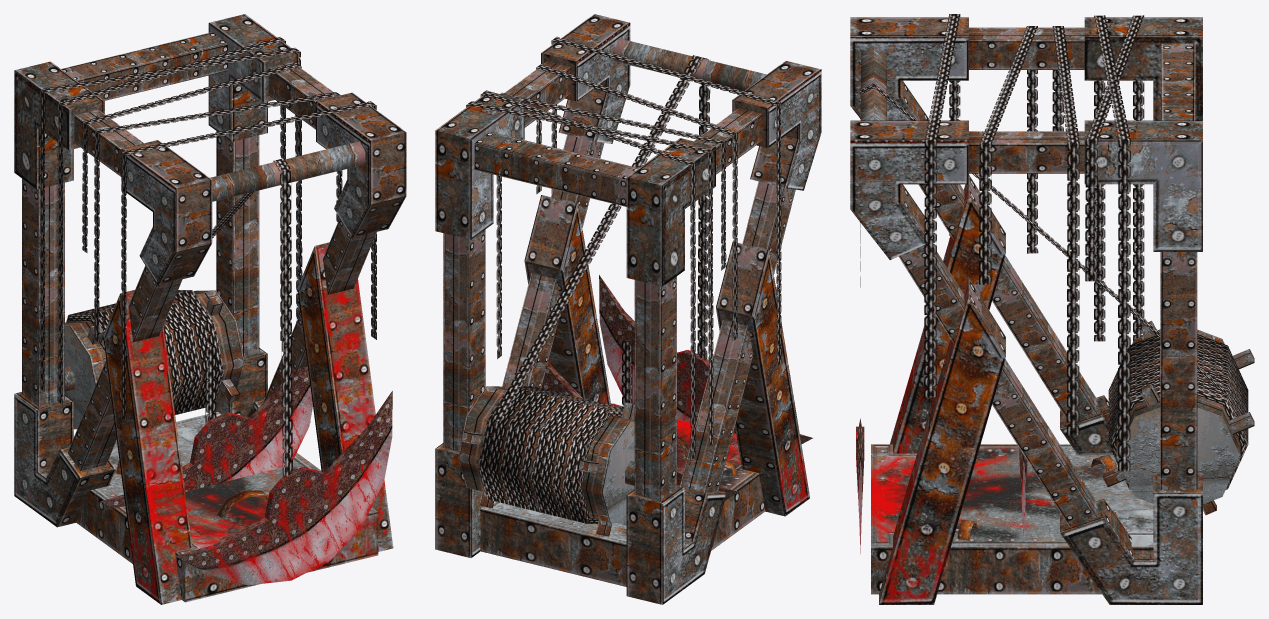
Rendered from Guillotine.glb.
3 renders of one model, left to right at view 1: azimuth 30°, elevation 25°; view 2: azimuth 150°, elevation 25°; view 3: azimuth 270°, elevation 25°, orthographic. The views are drawn at different scales.
Parts seen in each view (by area): view 1: Mount, Axe, LooseAxe, object_33, object_37, Chain, object_34, object_35, object_36, ChainSegment; view 2: Mount, Axe, object_37, object_34, object_33, object_35, object_36, Chain, LooseAxe, ChainSegment; view 3: Mount, object_33, object_35, object_34, object_37, object_36, Axe.
Boxes of the visible parts, bbox=[...] form: Mount: bbox=[14, 14, 406, 604]; Axe: bbox=[175, 391, 392, 585]; LooseAxe: bbox=[100, 368, 312, 509]; object_33: bbox=[57, 37, 285, 404]; object_37: bbox=[121, 101, 376, 419]; Chain: bbox=[280, 169, 292, 476]; object_34: bbox=[39, 48, 300, 391]; object_35: bbox=[82, 62, 302, 322]; object_36: bbox=[94, 92, 342, 342]; ChainSegment: bbox=[205, 345, 216, 424]; Mount: bbox=[435, 14, 821, 604]; Axe: bbox=[599, 275, 812, 444]; object_37: bbox=[551, 36, 781, 366]; object_34: bbox=[480, 90, 695, 459]; object_33: bbox=[466, 101, 713, 446]; object_35: bbox=[496, 92, 726, 359]; object_36: bbox=[536, 63, 737, 340]; Chain: bbox=[697, 58, 710, 359]; LooseAxe: bbox=[541, 361, 738, 499]; ChainSegment: bbox=[622, 341, 632, 408]; Mount: bbox=[850, 17, 1254, 604]; object_33: bbox=[1094, 15, 1130, 471]; object_35: bbox=[1052, 26, 1079, 435]; object_34: bbox=[1085, 15, 1144, 341]; object_37: bbox=[924, 14, 960, 397]; object_36: bbox=[979, 26, 1038, 284]; Axe: bbox=[856, 418, 864, 553].
Bounding box in the file's own units: 4.32 × 7.35 × 5.78.
2 materials, 2 textured.
